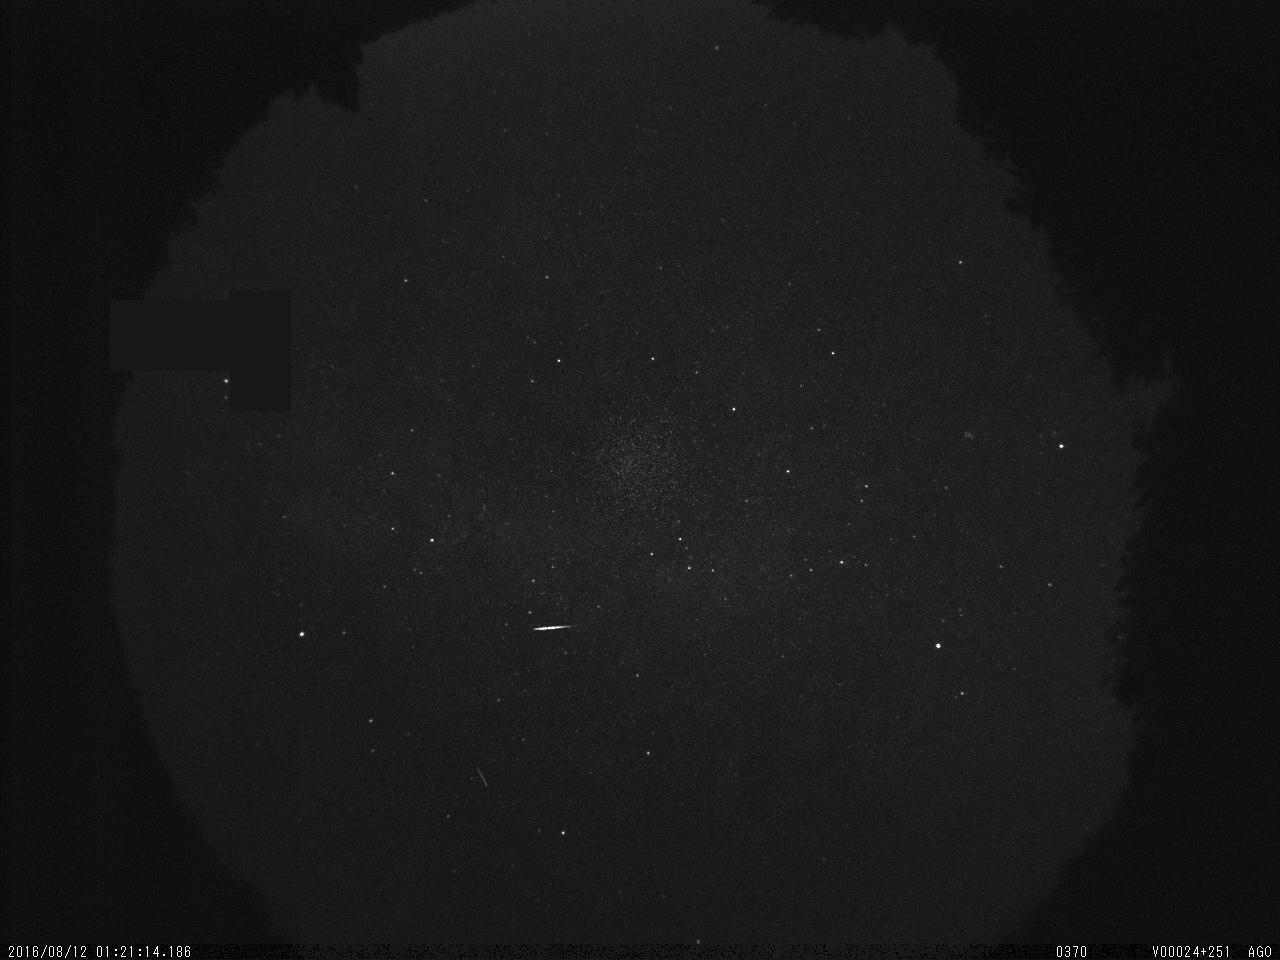meteor: (526, 611, 584, 644)
